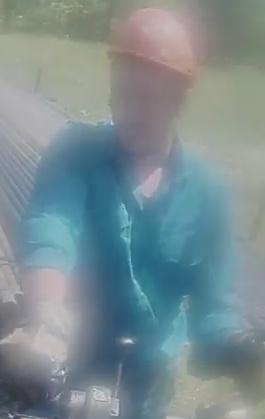gloves: (0, 280, 73, 388)
helmet: (106, 6, 197, 81)
vest: (19, 118, 242, 364)
